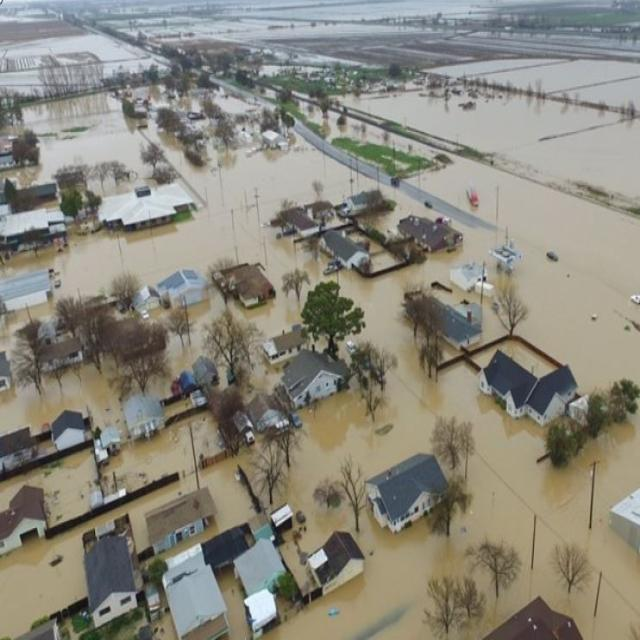flooded_areas: (4, 105, 639, 639)
